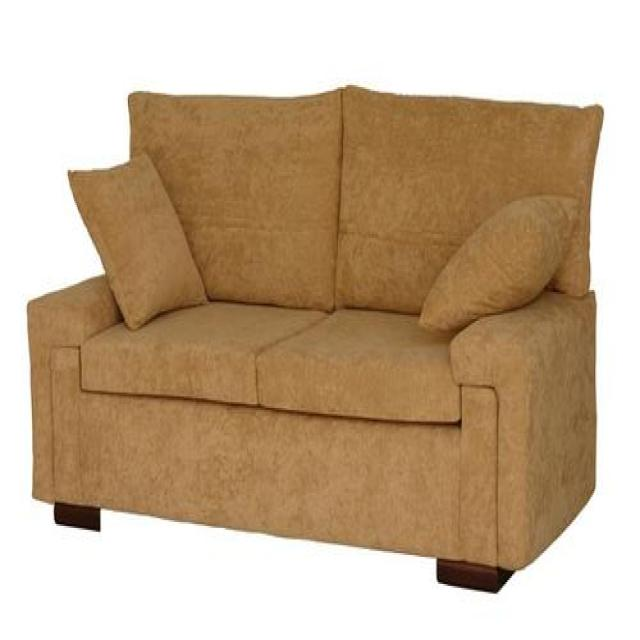sofa: (26, 82, 604, 593)
